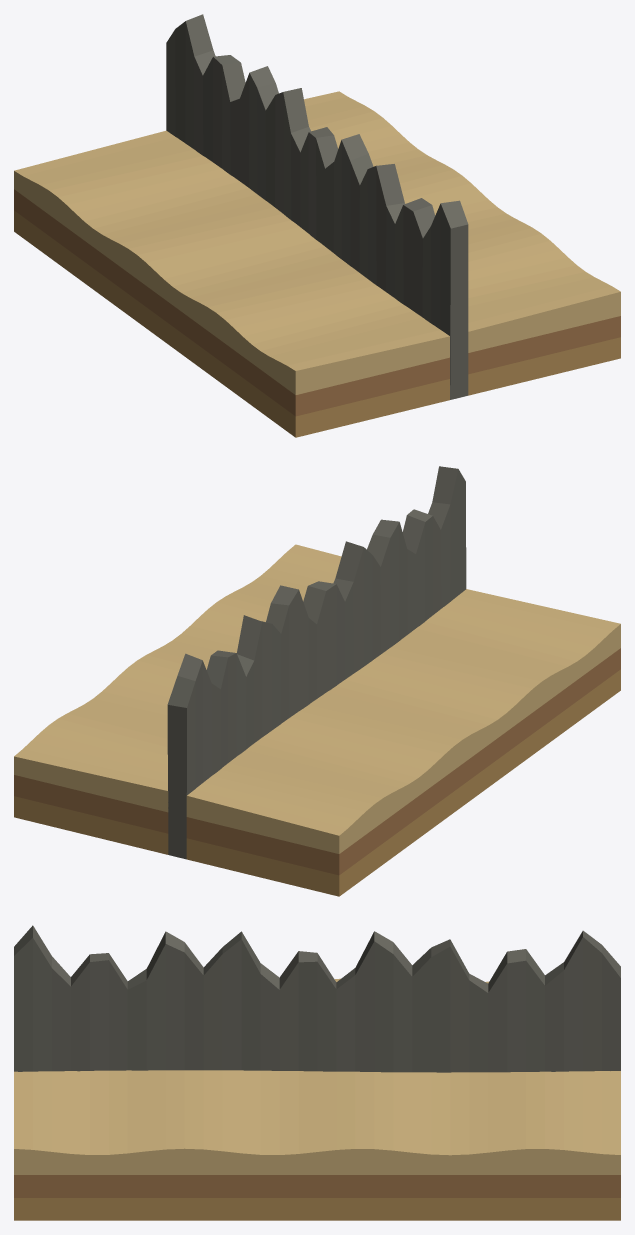
3 renders of one model, top to bottom at view 1: azimuth 30°, elevation 25°; view 2: azimuth 150°, elevation 25°; view 3: azimuth 270°, elevation 25°, orthographic. The views are drawn at different scales.
Visible parts, largest first — view 1: bedded_host_-1_2, continuous_crosscutting_resistant_tabular_intrusion, bedded_host_1_2, bedded_host_-1_0, bedded_host_-1_1, bedded_host_1_0, bedded_host_1_1; view 2: bedded_host_-1_2, continuous_crosscutting_resistant_tabular_intrusion, bedded_host_1_2, bedded_host_-1_0, bedded_host_-1_1, bedded_host_1_1, bedded_host_1_0; view 3: continuous_crosscutting_resistant_tabular_intrusion, bedded_host_1_2, bedded_host_1_0, bedded_host_1_1.
Part boxes in pixels (bbox=[...]): bedded_host_-1_2: bbox=[14, 130, 449, 394]; continuous_crosscutting_resistant_tabular_intrusion: bbox=[166, 14, 468, 399]; bedded_host_1_2: bbox=[304, 91, 620, 352]; bedded_host_-1_0: bbox=[14, 210, 449, 437]; bedded_host_-1_1: bbox=[14, 189, 449, 416]; bedded_host_1_0: bbox=[468, 337, 620, 395]; bedded_host_1_1: bbox=[468, 316, 620, 374]; bedded_host_-1_2: bbox=[186, 589, 620, 853]; continuous_crosscutting_resistant_tabular_intrusion: bbox=[167, 466, 466, 859]; bedded_host_1_2: bbox=[14, 544, 341, 812]; bedded_host_-1_0: bbox=[186, 669, 620, 896]; bedded_host_-1_1: bbox=[186, 648, 620, 875]; bedded_host_1_1: bbox=[14, 775, 168, 833]; bedded_host_1_0: bbox=[14, 796, 168, 854]; continuous_crosscutting_resistant_tabular_intrusion: bbox=[14, 925, 620, 1072]; bedded_host_1_2: bbox=[14, 1070, 620, 1174]; bedded_host_1_0: bbox=[14, 1198, 620, 1220]; bedded_host_1_1: bbox=[14, 1175, 620, 1197].
Size of the model in its own units: 16 by 8.96 by 24.
